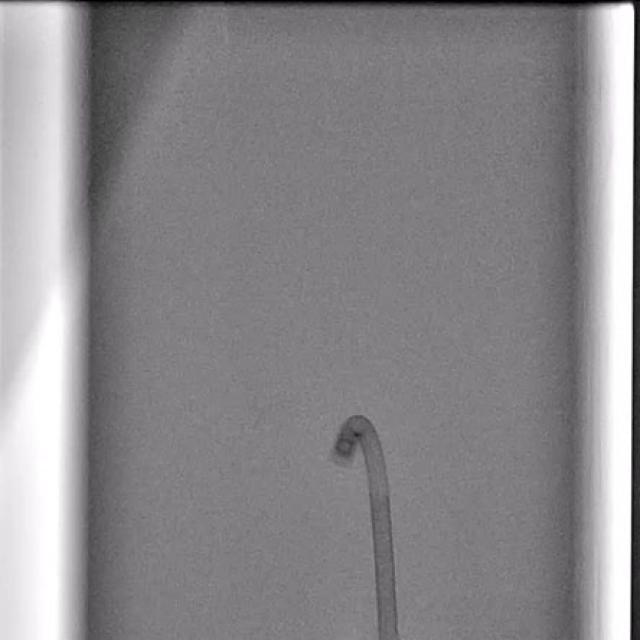bend: (368, 485, 389, 497)
entry: (380, 633, 399, 640)
marker: (335, 439, 355, 456)
tip: (331, 453, 350, 468)
